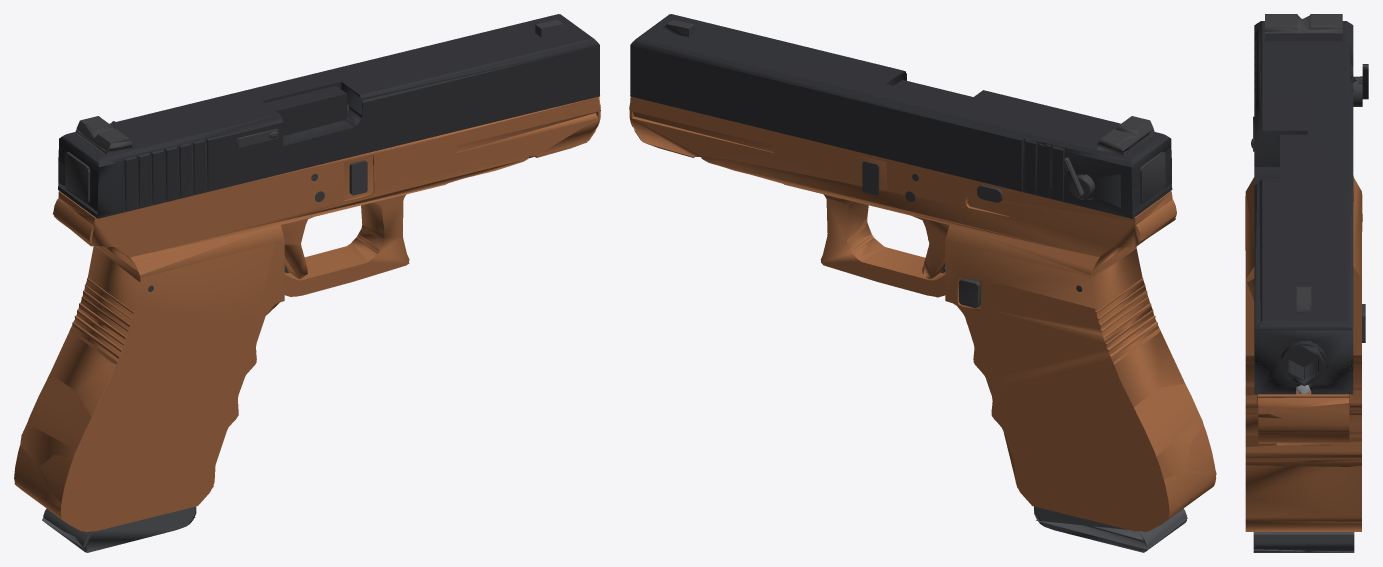
Rendered from glock.glb.
The picture shows the model from 3 angles, left to right: view 1: azimuth 30°, elevation 25°; view 2: azimuth 150°, elevation 25°; view 3: azimuth 270°, elevation 25°; orthographic projection. The views are drawn at different scales.
Visible parts, largest first — view 1: perto_base, mundo_ferrolho, longe_base, mundo_base, longe_ferrolho, perto_ferrolho, mundo_carregador; view 2: mundo_base, longe_base, mundo_ferrolho, perto_ferrolho, longe_ferrolho, perto_base, mundo_carregador, longe_carregador, perto_carregador; view 3: mundo_ferrolho, longe_base, mundo_base, longe_ferrolho, perto_base, perto_ferrolho, perto_carregador, mundo_carregador, perto_seletor, mundo_seletor, longe_carregador.
Boxes of the visible parts, x1,y1,x2,y2 form: perto_base: (60, 86, 600, 531); mundo_ferrolho: (58, 14, 599, 218); longe_base: (14, 94, 600, 532); mundo_base: (14, 85, 567, 519); longe_ferrolho: (58, 14, 598, 218); perto_ferrolho: (58, 28, 599, 218); mundo_carregador: (43, 506, 196, 552); mundo_base: (629, 79, 1216, 531); longe_base: (630, 97, 1216, 532); mundo_ferrolho: (630, 14, 1171, 218); perto_ferrolho: (630, 38, 1171, 218); longe_ferrolho: (630, 14, 1172, 218); perto_base: (632, 81, 1157, 356); mundo_carregador: (1034, 506, 1186, 552); longe_carregador: (1036, 517, 1187, 549); perto_carregador: (1035, 509, 1186, 551); mundo_ferrolho: (1251, 14, 1353, 394); longe_base: (1245, 194, 1362, 523); mundo_base: (1245, 134, 1365, 531); longe_ferrolho: (1252, 14, 1353, 394); perto_base: (1245, 136, 1364, 521); perto_ferrolho: (1251, 14, 1353, 366); perto_carregador: (1255, 532, 1352, 552); mundo_carregador: (1253, 532, 1354, 552); perto_seletor: (1353, 68, 1368, 100); mundo_seletor: (1353, 64, 1368, 106); longe_carregador: (1253, 549, 1354, 552).
Size of the model in its own units: 8.03 by 5.59 by 1.26.
